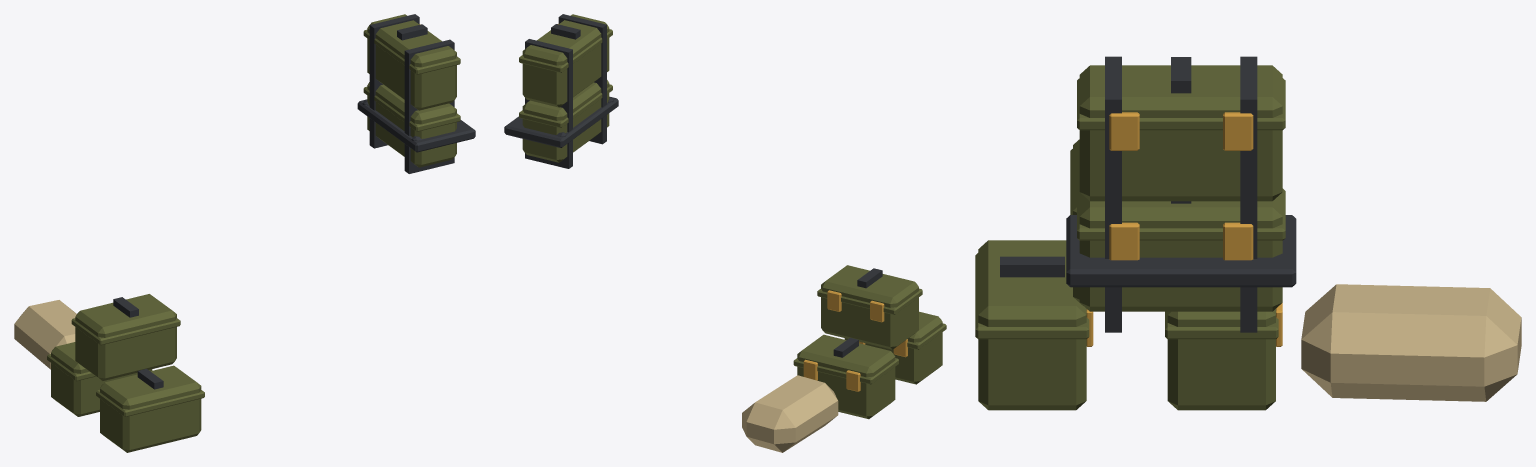
Rendered from SniperDressB1.obj.
3 renders of one model, left to right at view 1: azimuth 30°, elevation 25°; view 2: azimuth 150°, elevation 25°; view 3: azimuth 270°, elevation 25°, orthographic. The views are drawn at different scales.
Parts seen in each view (by area): view 1: SniperDressB1; view 2: SniperDressB1; view 3: SniperDressB1.
Part boxes in pixels (bbox=[...]): SniperDressB1: bbox=[14, 14, 475, 452]; SniperDressB1: bbox=[504, 14, 946, 452]; SniperDressB1: bbox=[975, 56, 1521, 410].
Size of the model in its own units: 1.24 by 0.965 by 0.8066.
